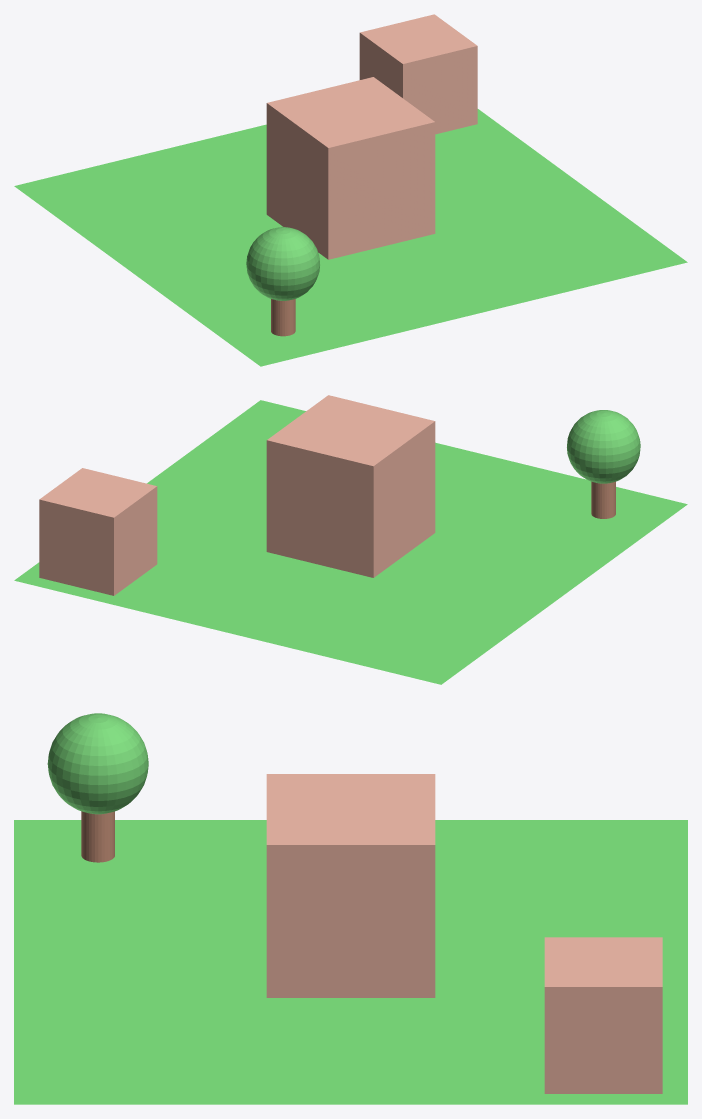
Rendered from simple_castle.glb.
The picture shows the model from 3 angles, top to bottom: view 1: azimuth 30°, elevation 25°; view 2: azimuth 150°, elevation 25°; view 3: azimuth 270°, elevation 25°; orthographic projection. The views are drawn at different scales.
Parts seen in each view (by area): view 1: Ground, MainTower, SmallTower, TreeLeaves, TreeTrunk; view 2: Ground, MainTower, SmallTower, TreeLeaves, TreeTrunk; view 3: Ground, MainTower, SmallTower, TreeLeaves, TreeTrunk.
Boxes of the visible parts, <box> form: Ground: <box>14,109,687,366</box>; MainTower: <box>266,77,435,259</box>; SmallTower: <box>359,14,477,134</box>; TreeLeaves: <box>246,227,319,300</box>; TreeTrunk: <box>271,299,295,336</box>; Ground: <box>14,400,687,684</box>; MainTower: <box>266,395,435,577</box>; SmallTower: <box>39,468,157,595</box>; TreeLeaves: <box>567,410,640,483</box>; TreeTrunk: <box>591,481,615,518</box>; Ground: <box>14,820,687,1104</box>; MainTower: <box>266,774,435,997</box>; SmallTower: <box>544,937,662,1093</box>; TreeLeaves: <box>47,713,148,814</box>; TreeTrunk: <box>81,811,114,862</box>.
Size of the model in its own units: 4 by 1 by 4.
